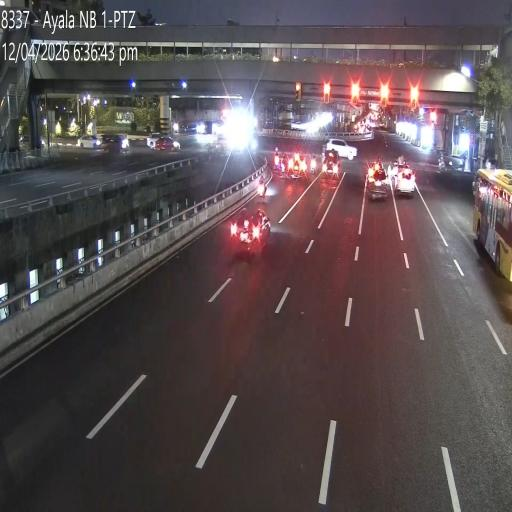Car: (229, 208, 270, 256), (366, 159, 388, 200), (327, 138, 358, 160), (322, 148, 340, 179), (396, 168, 414, 198), (101, 134, 127, 154), (154, 134, 184, 151), (288, 154, 306, 178), (78, 134, 102, 149), (146, 133, 164, 149)
Motor: (258, 177, 268, 202), (280, 152, 287, 178), (310, 151, 316, 174), (274, 148, 280, 169)
Not Accident: (321, 138, 356, 182), (271, 148, 306, 180), (77, 131, 129, 152), (144, 133, 182, 152)
